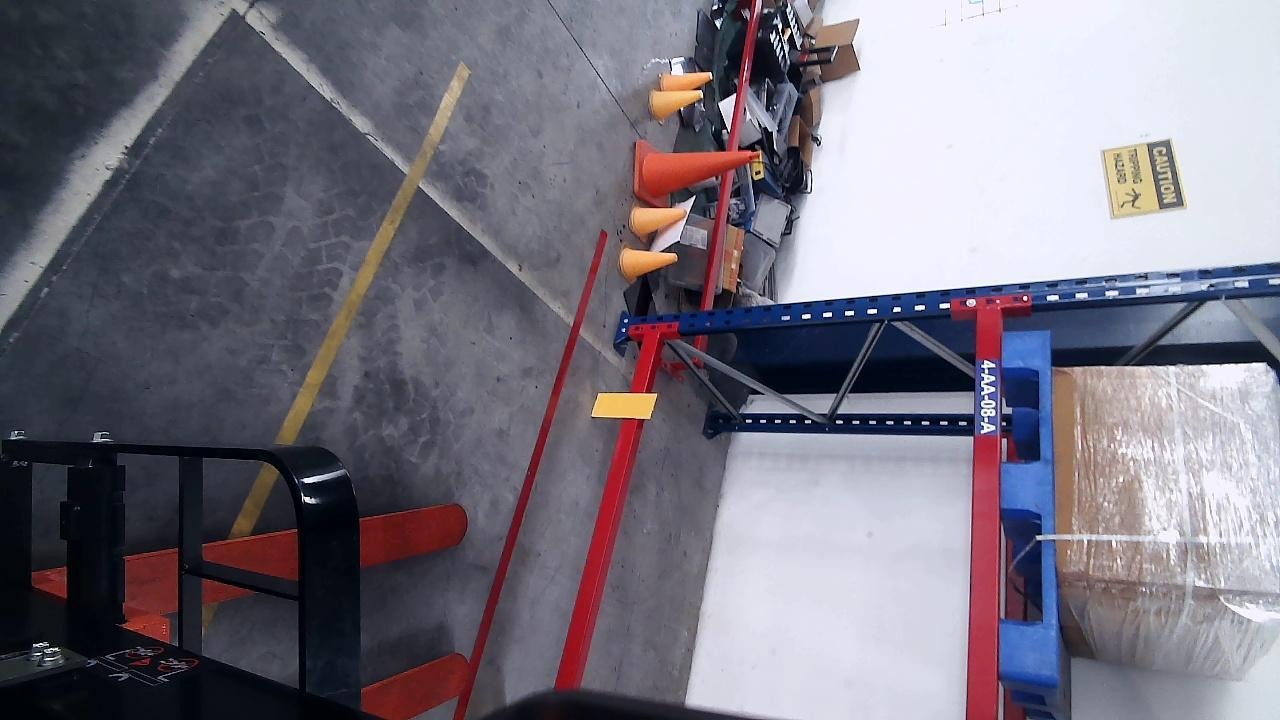h_rack: (553, 333, 661, 688), (965, 308, 1000, 719)
orange_strip: (591, 392, 657, 417)
red_line: (451, 228, 610, 718)
small_pallet: (997, 332, 1052, 676)
yellow_line: (273, 59, 474, 443)
